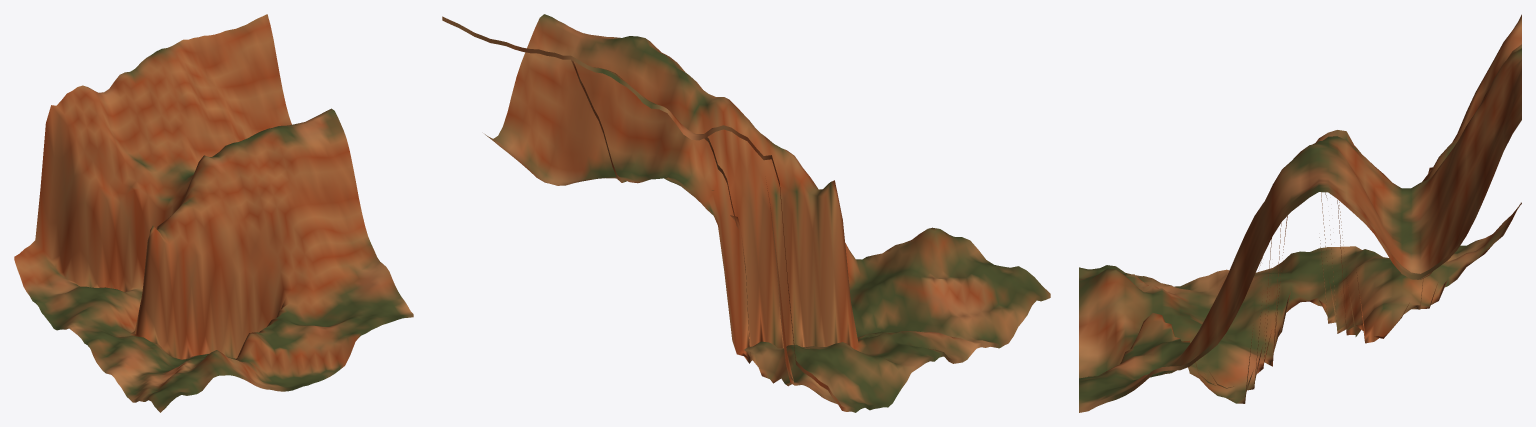
Rendered from terrain-065.glb.
3 renders of one model, left to right at view 1: azimuth 30°, elevation 25°; view 2: azimuth 150°, elevation 25°; view 3: azimuth 270°, elevation 25°, orthographic. The views are drawn at different scales.
Visible parts, largest first — view 1: terrain-065; view 2: terrain-065; view 3: terrain-065.
Boxes of the visible parts, x1,y1,x2,y2 form: terrain-065: (14, 14, 413, 412); terrain-065: (442, 14, 1050, 412); terrain-065: (1079, 14, 1521, 412).
Bounding box in the file's own units: 384 × 364 × 384.
